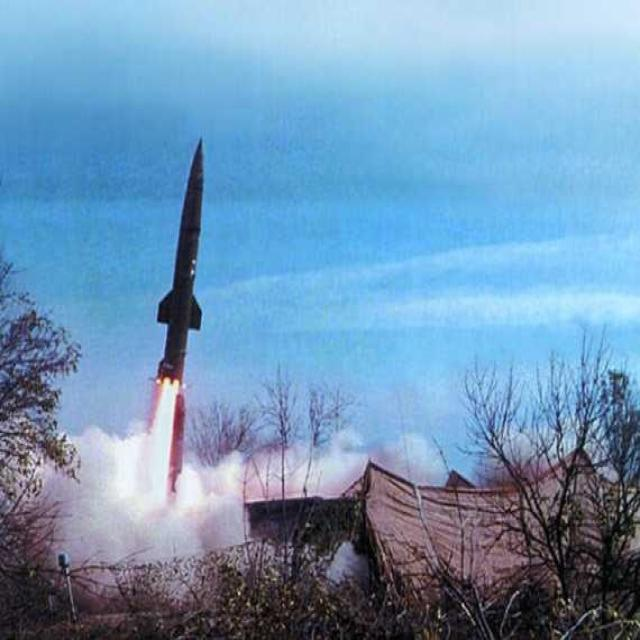missile: (146, 136, 212, 396)
